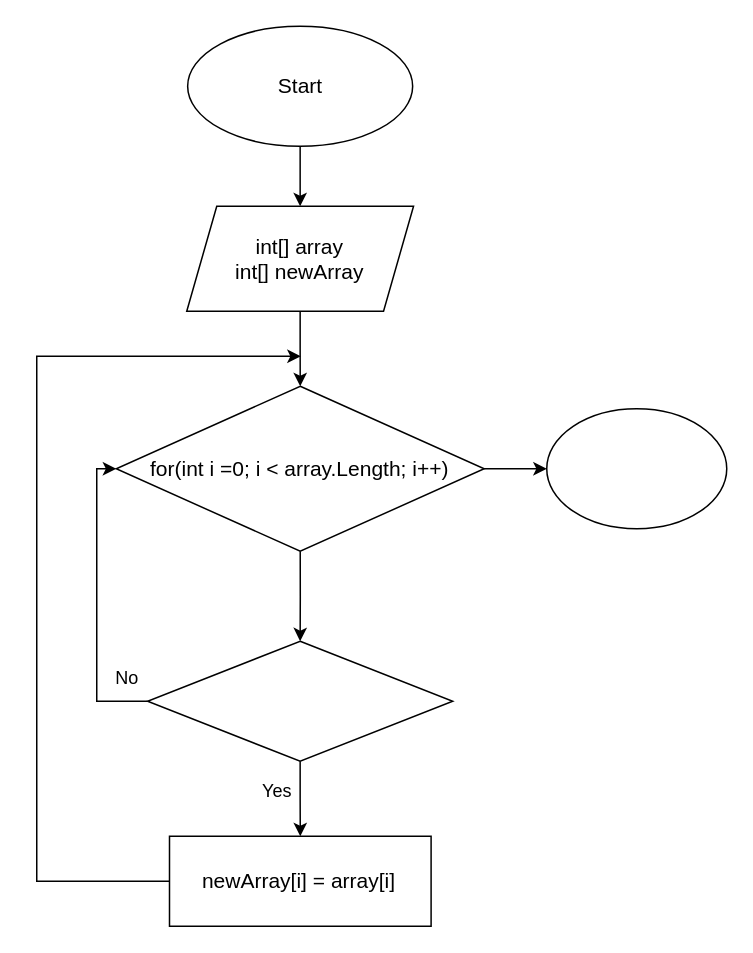
Image size: 753x953. Some labels were removed from this diagram. The shapes that lost their labels are listed below. From the top down, each one's centre as x and y in pixels, then its label:
the point at 636,468: End
the point at 299,700: if (array[i].Length <= 3)
